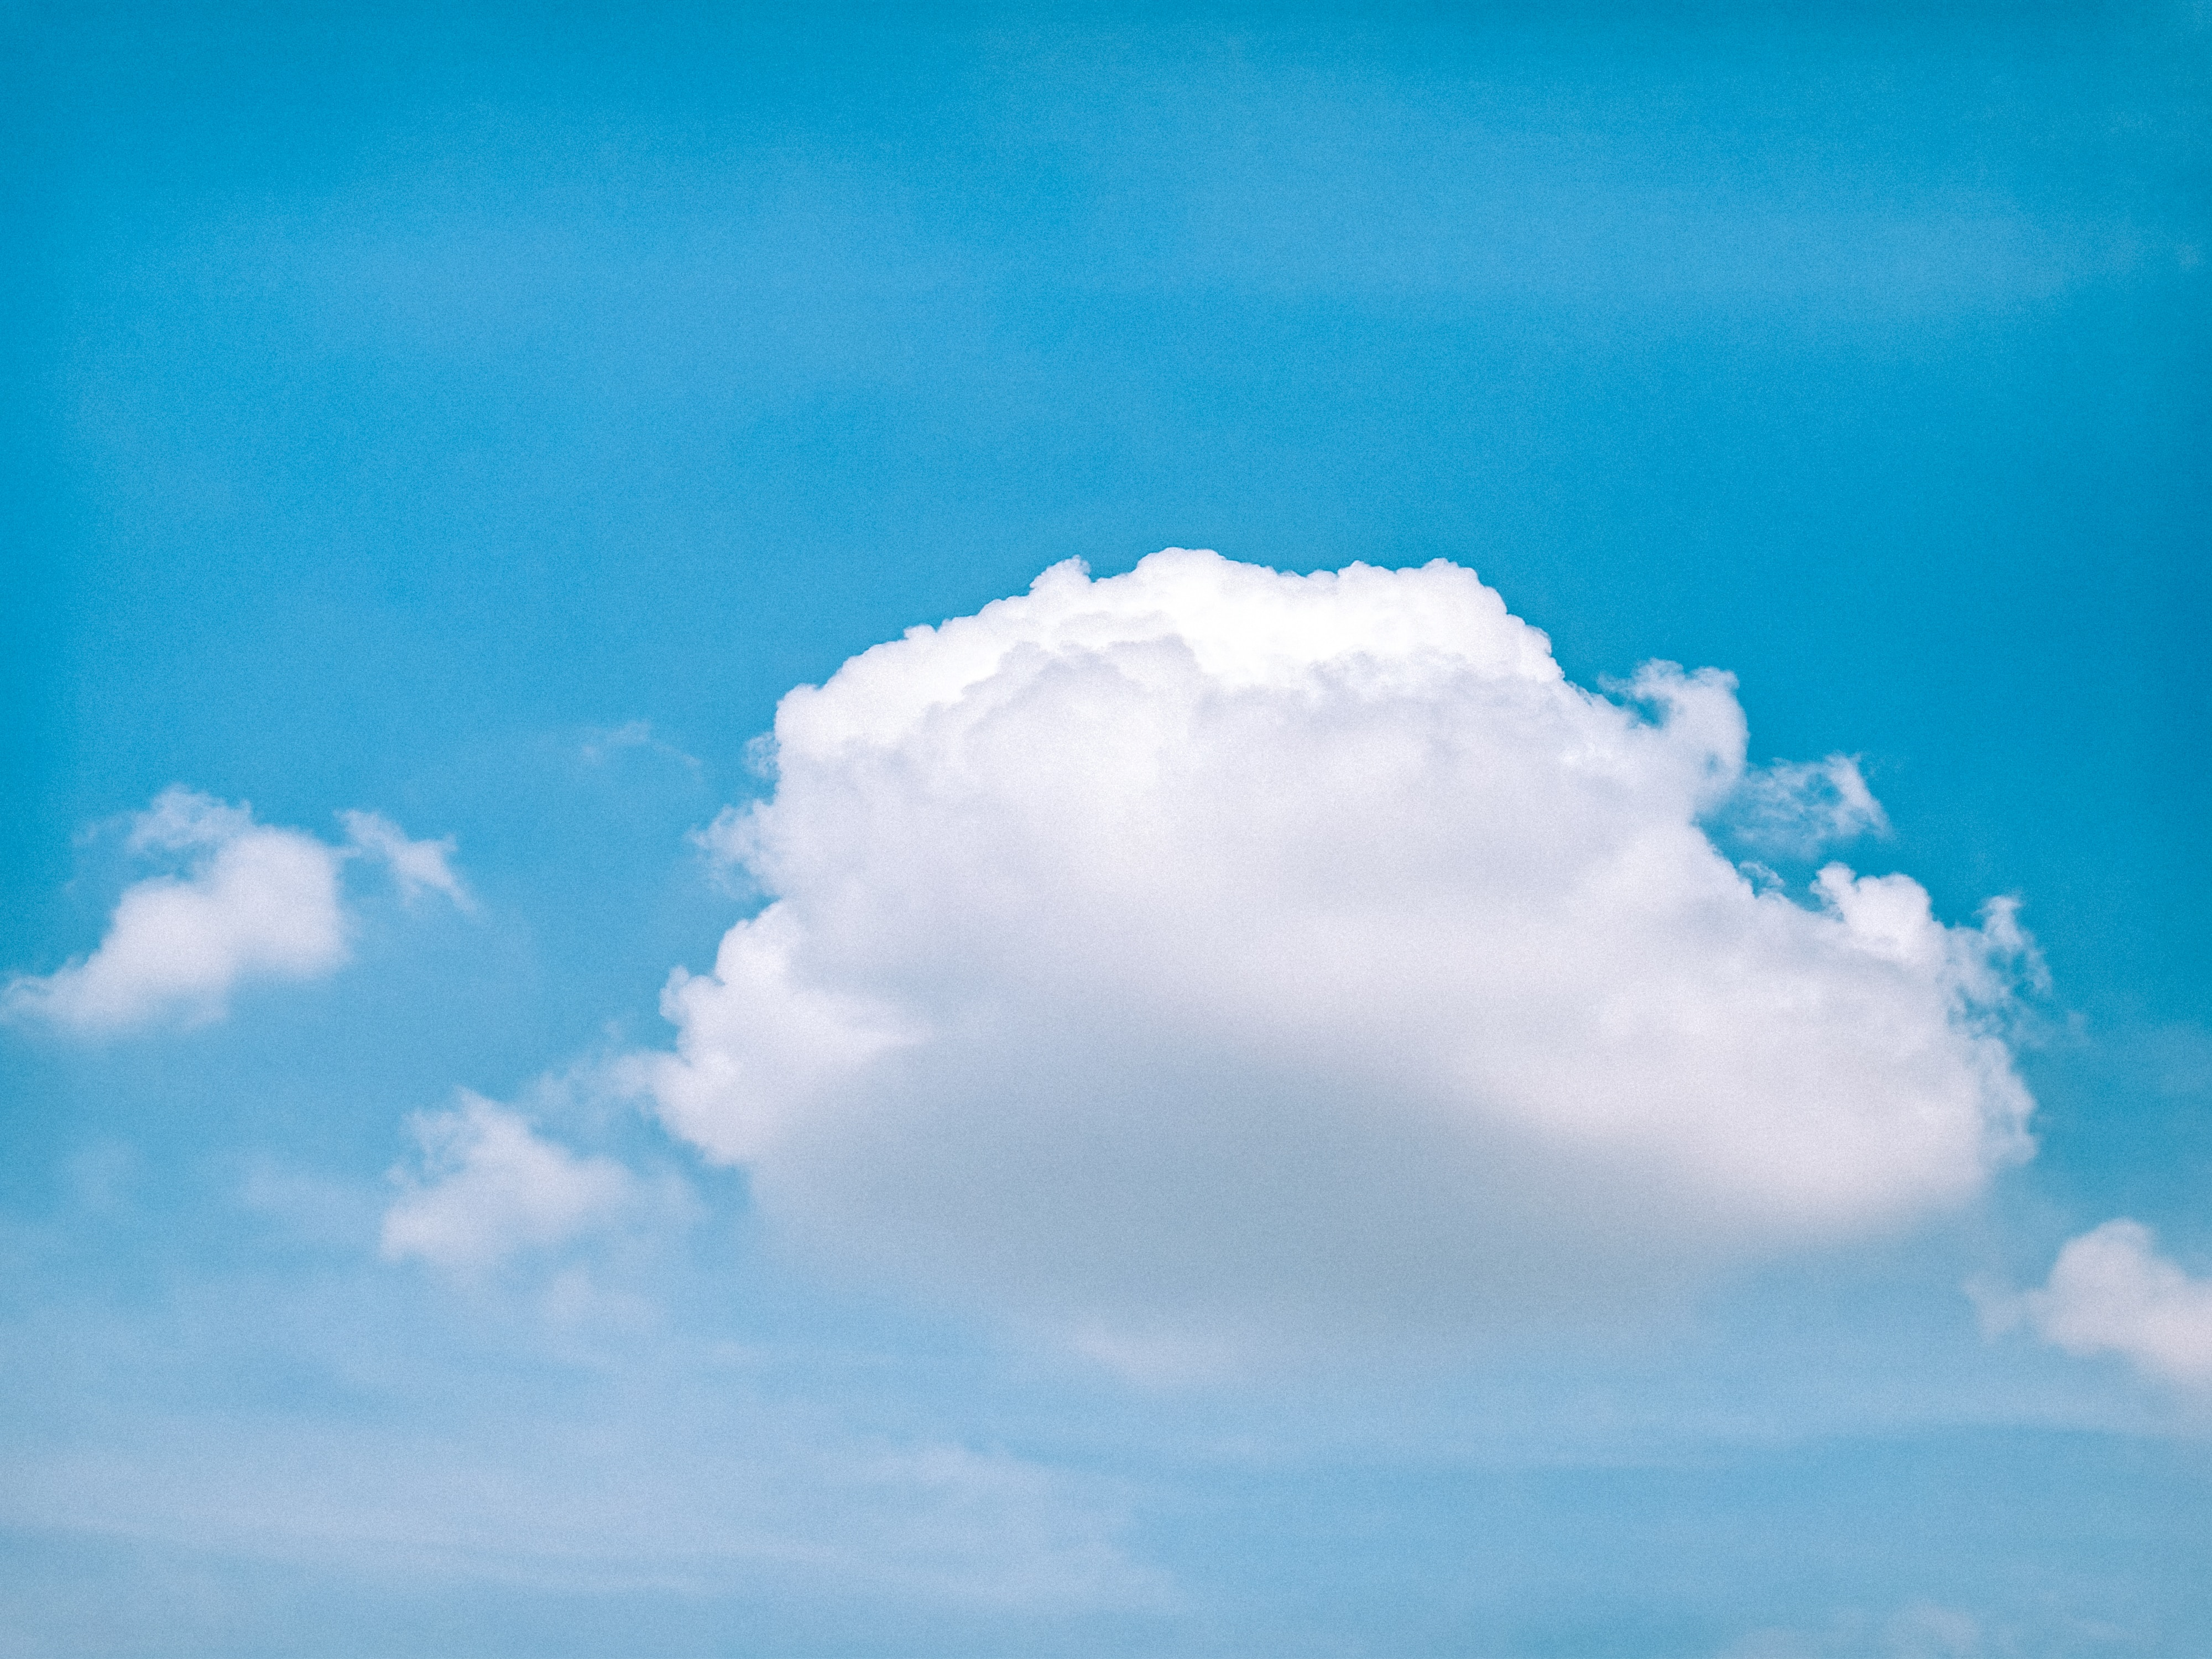Cumulus: (589, 443, 2052, 1420), (17, 749, 498, 1060), (1989, 1195, 2212, 1422)
